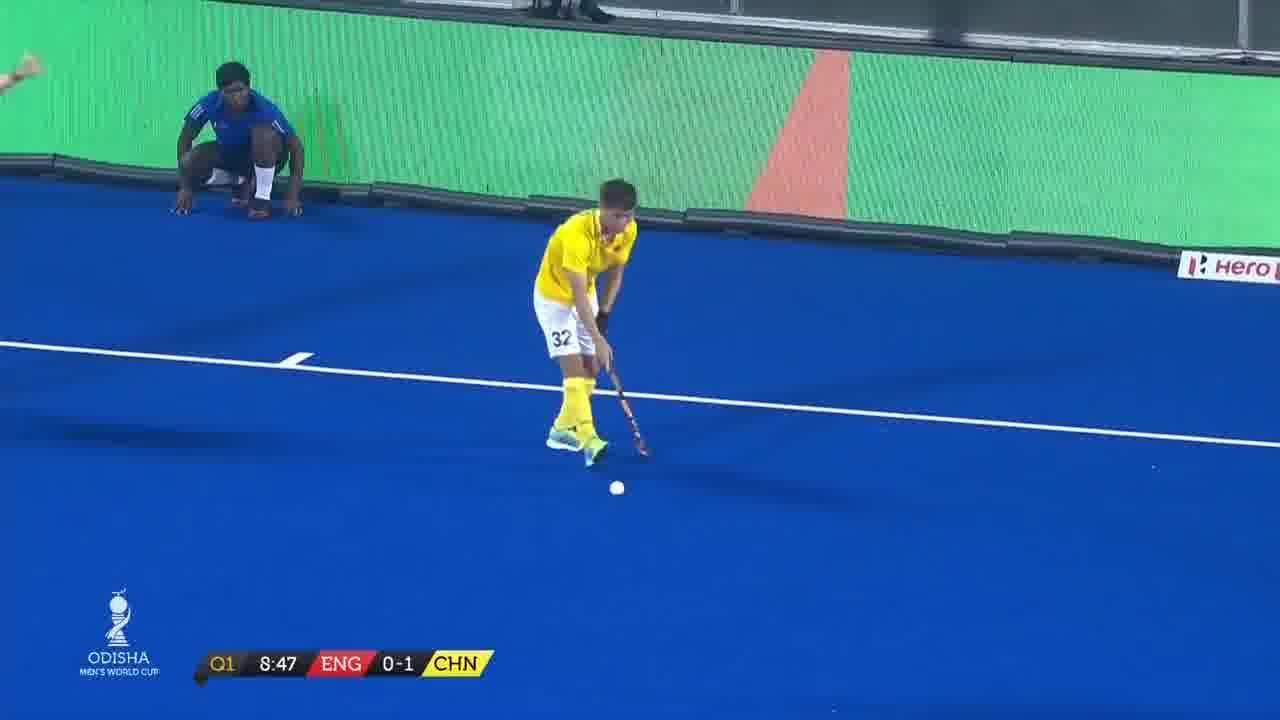ball: (610, 476, 626, 502)
